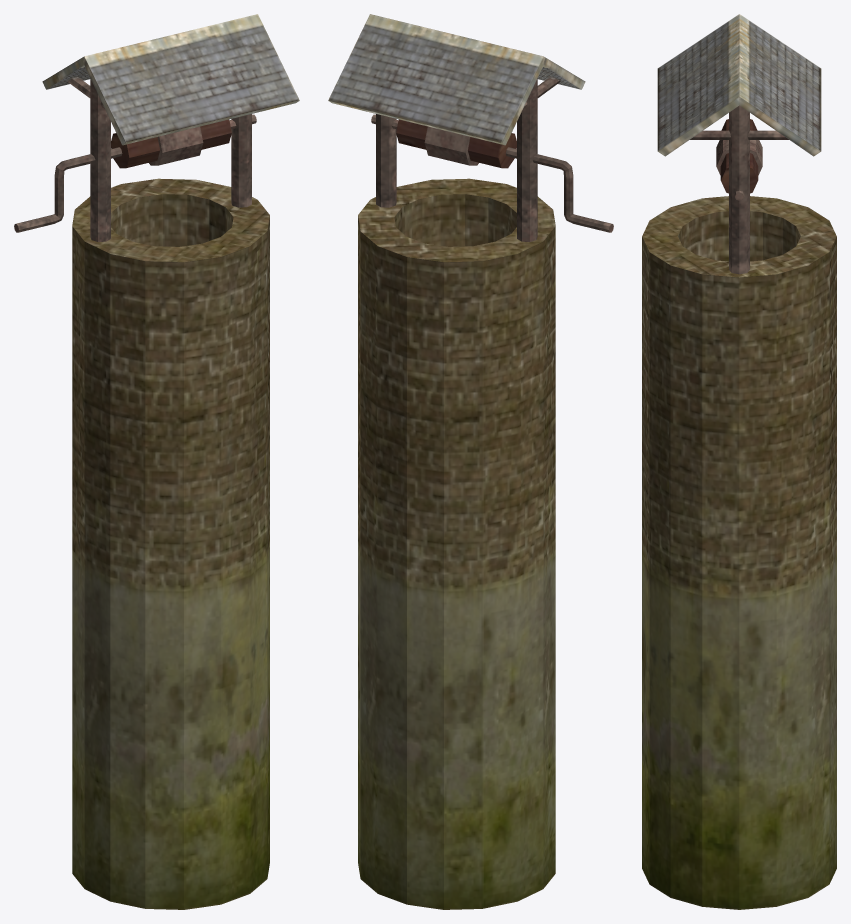
Rendered from Well.fbx.
3 renders of one model, left to right at view 1: azimuth 30°, elevation 25°; view 2: azimuth 150°, elevation 25°; view 3: azimuth 270°, elevation 25°, orthographic. The views are drawn at different scales.
Visible parts, largest first — view 1: Well.001; view 2: Well.001; view 3: Well.001.
Boxes of the visible parts, x1,y1,x2,y2 form: Well.001: (14,14,299,909); Well.001: (328,14,613,909); Well.001: (642,14,836,909).
Bounding box in the file's own units: 394 × 1298 × 282.
1 material, 1 textured.
